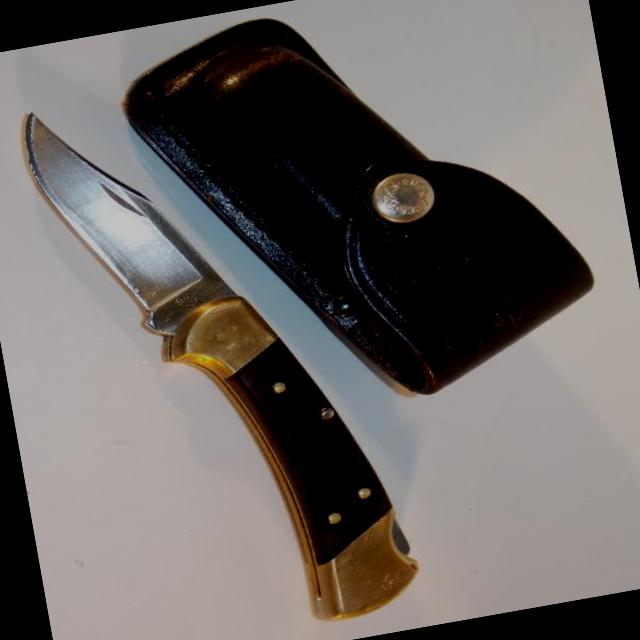knife: (11, 63, 275, 404)
